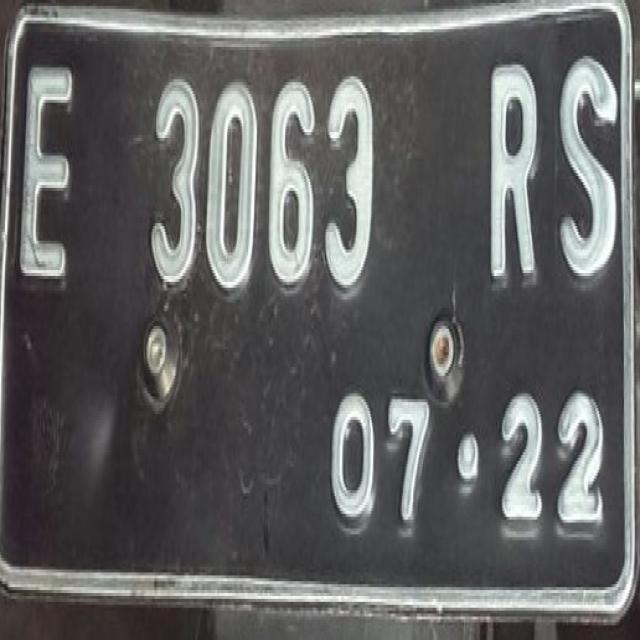plate: (0, 0, 639, 617)
